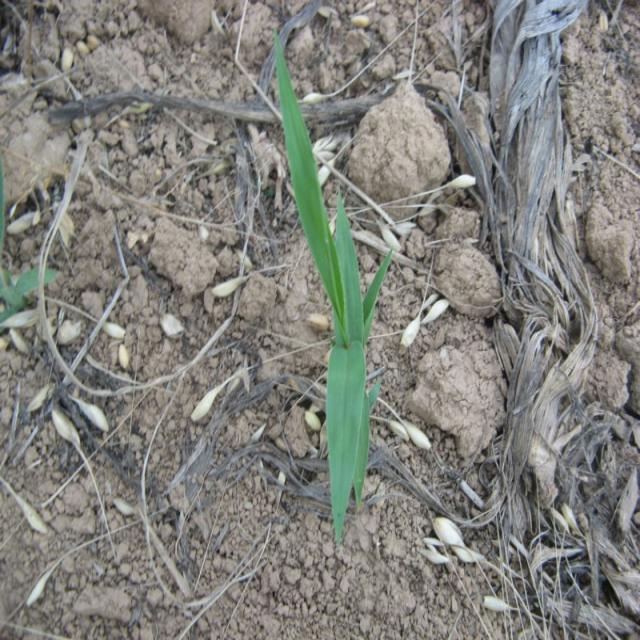bg: (271, 31, 390, 539)
